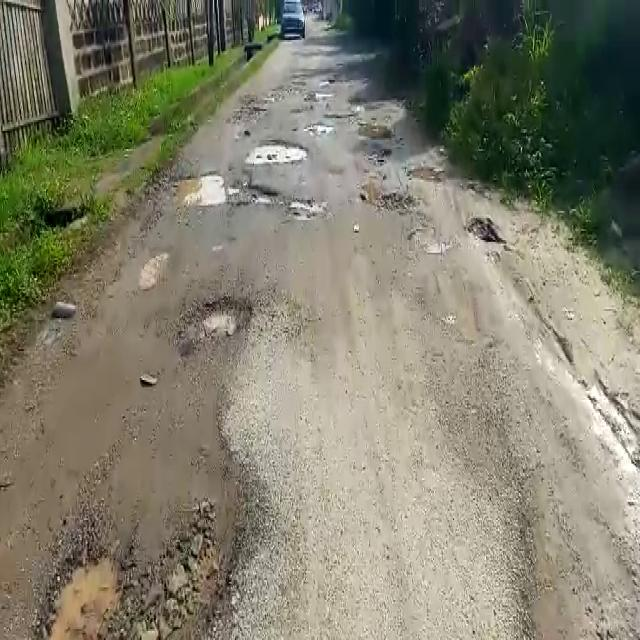Pothole: (36, 544, 123, 640), (173, 168, 277, 209), (179, 292, 252, 338), (247, 136, 312, 164), (290, 196, 332, 224)
